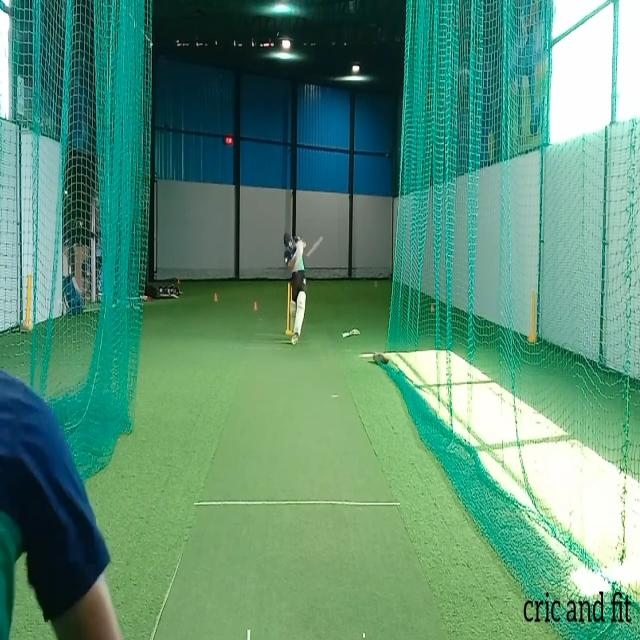batsman: (283, 232, 308, 346)
